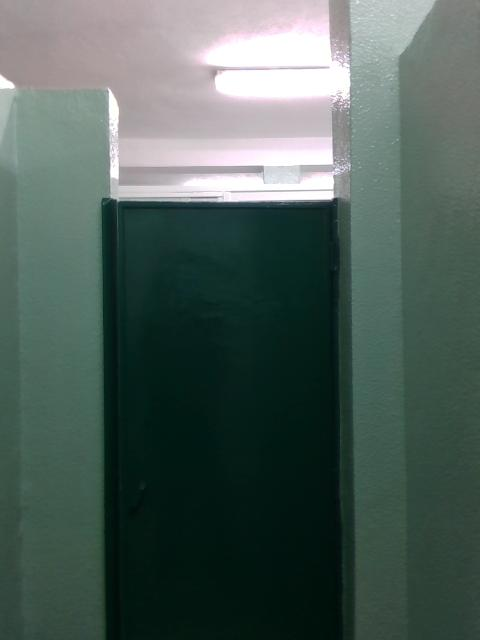closed_door: (100, 195, 353, 638)
